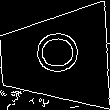O_W: (28, 35, 80, 81)
